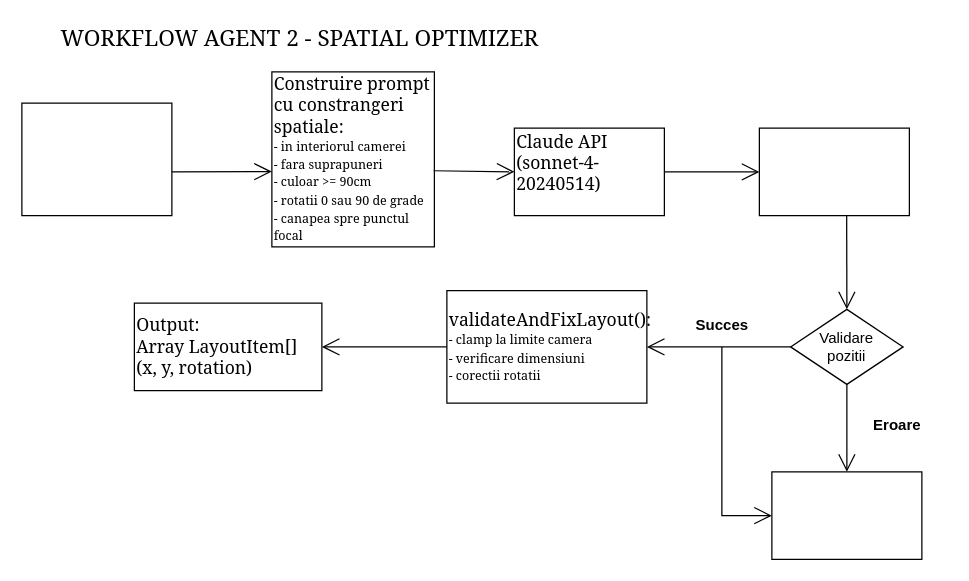
This 969x581 diagram has some shape labels left out. Here are the shapes that lost their labels. From the top down, the centre of each, then its label:
the point at 96,159: Input: - dimensiuni camera - mobilier selectat - varianta(0/1/2)
the point at 833,171: Raspuns JSON pozitii
the point at 846,515: Fallback layout: plasare aleatorie cu verificare coliziuni
